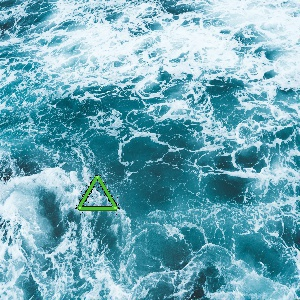triangle: (73, 172, 121, 214)
